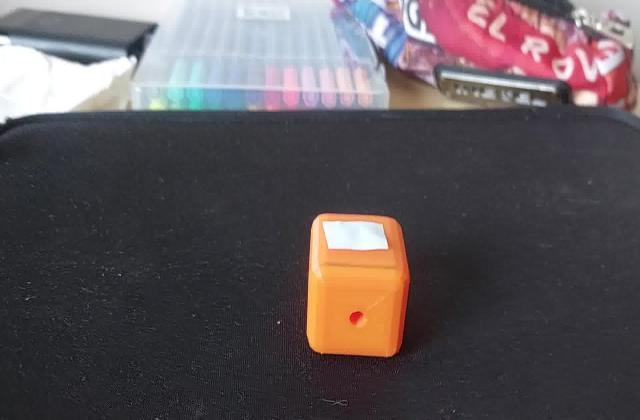cube: (304, 210, 412, 360)
white: (322, 220, 392, 255)
